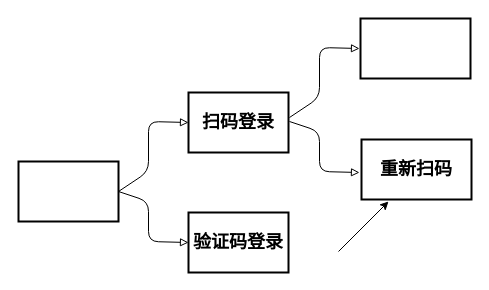
Some shapes in this 489 by 290 pixel diagram are drawn without their labels. Here are the shapes that lost their labels. From the top down, the centre of each, then its label:
(415,48): 使用历史账号
(68,191): boss登录
